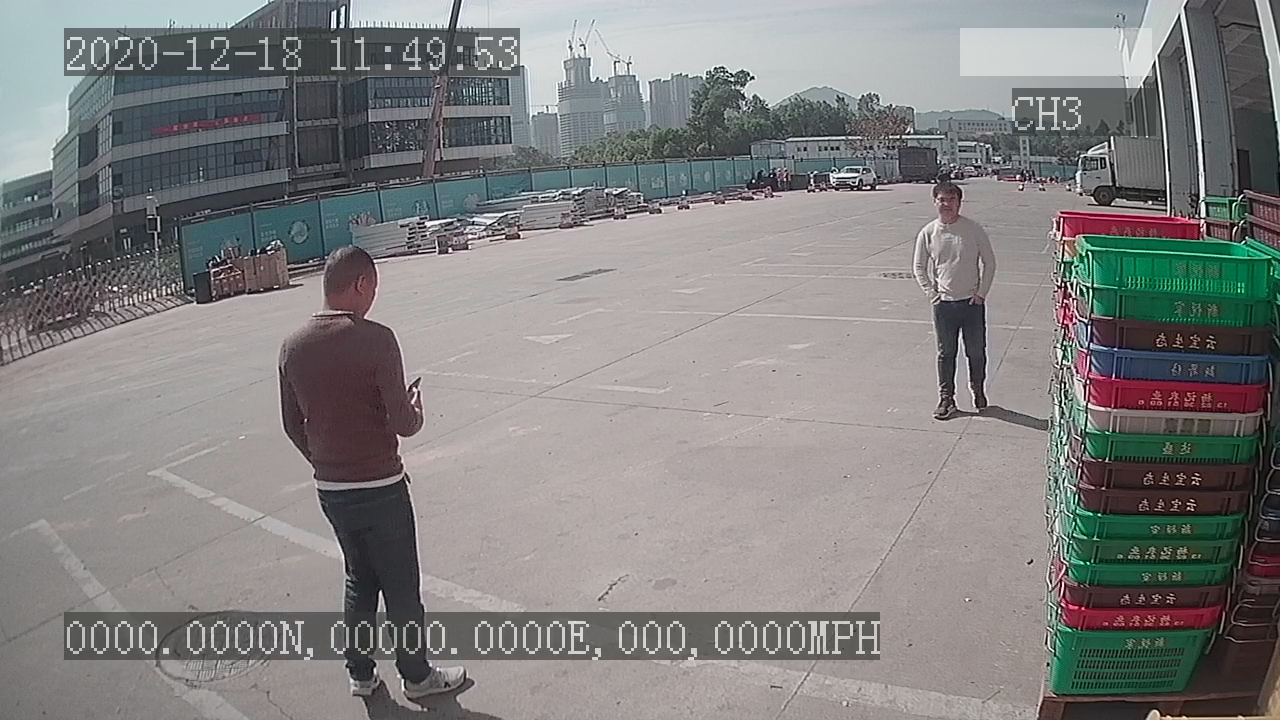person: (904, 179, 1001, 427)
